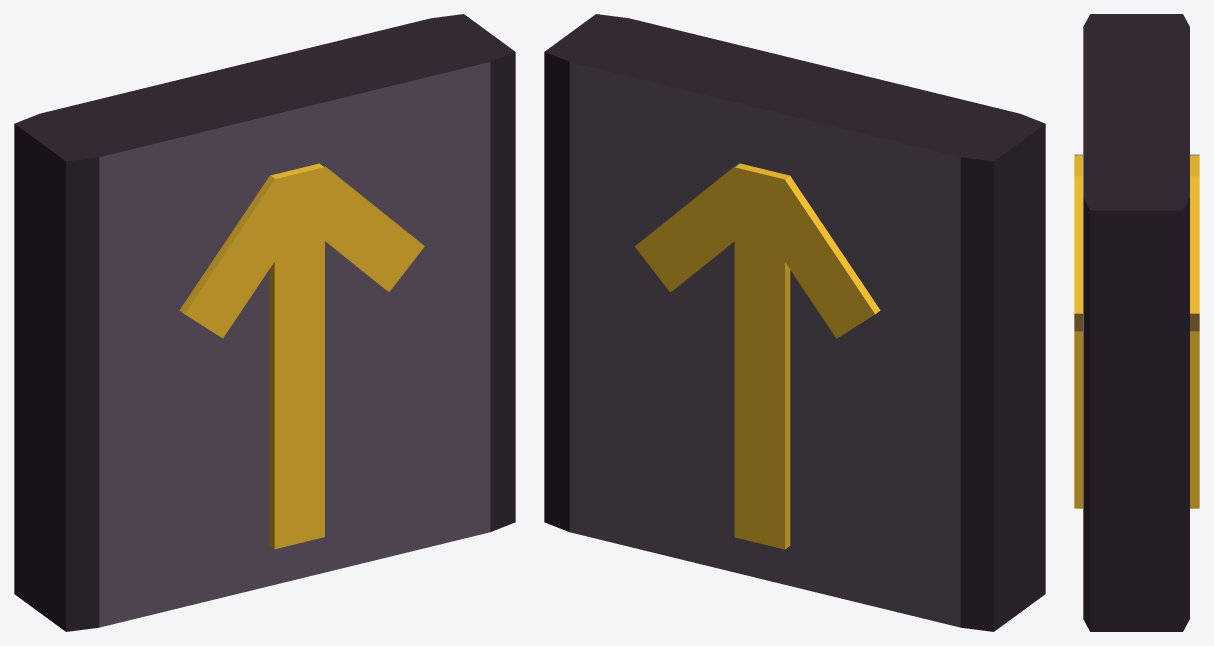
Rendered from Ubgrade.fbx.
The picture shows the model from 3 angles, left to right: view 1: azimuth 30°, elevation 25°; view 2: azimuth 150°, elevation 25°; view 3: azimuth 270°, elevation 25°; orthographic projection. The views are drawn at different scales.
Visible parts, largest first — view 1: Cube.011; view 2: Cube.011; view 3: Cube.011.
Part boxes in pixels (box(x1,y1,x2,y2)): Cube.011: box(14, 14, 515, 631); Cube.011: box(544, 14, 1045, 631); Cube.011: box(1074, 14, 1199, 631).
Size of the model in its own units: 50.65 by 50.65 by 13.66.
